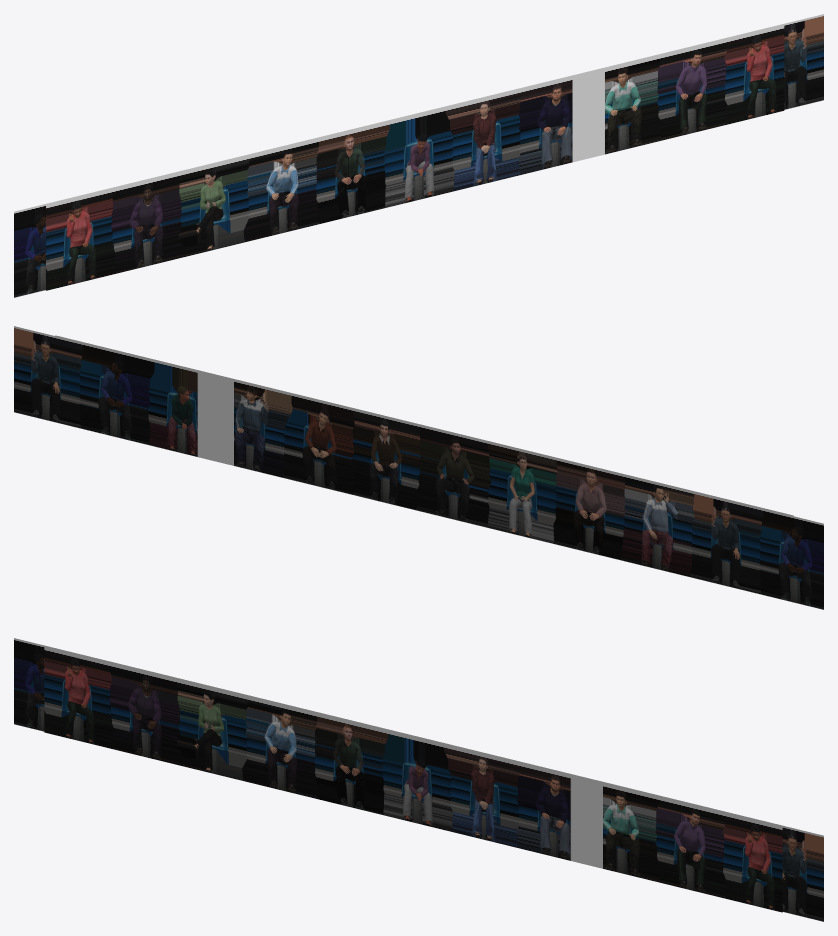
File: ESTADIO_publicoLateralAnfiteatro.FBX
3 renders of one model, top to bottom at view 1: azimuth 30°, elevation 25°; view 2: azimuth 150°, elevation 25°; view 3: azimuth 330°, elevation 25°, orthographic.
Parts seen in each view (by area): view 1: ESTADIO_publicoLateralAnfiteatro; view 2: ESTADIO_publicoLateralAnfiteatro; view 3: ESTADIO_publicoLateralAnfiteatro.
Part boxes in pixels (x1=…): ESTADIO_publicoLateralAnfiteatro: x1=14, y1=14, x2=823, y2=297; ESTADIO_publicoLateralAnfiteatro: x1=14, y1=326, x2=823, y2=609; ESTADIO_publicoLateralAnfiteatro: x1=14, y1=638, x2=823, y2=921.
Bounding box in the file's own units: 1279 × 130 × 2.26.
